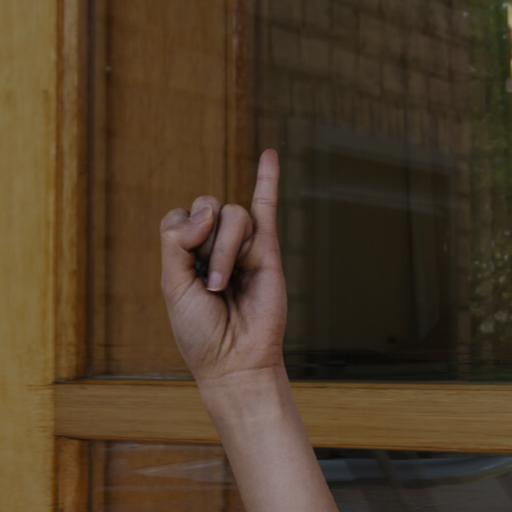I: (150, 139, 305, 396)
